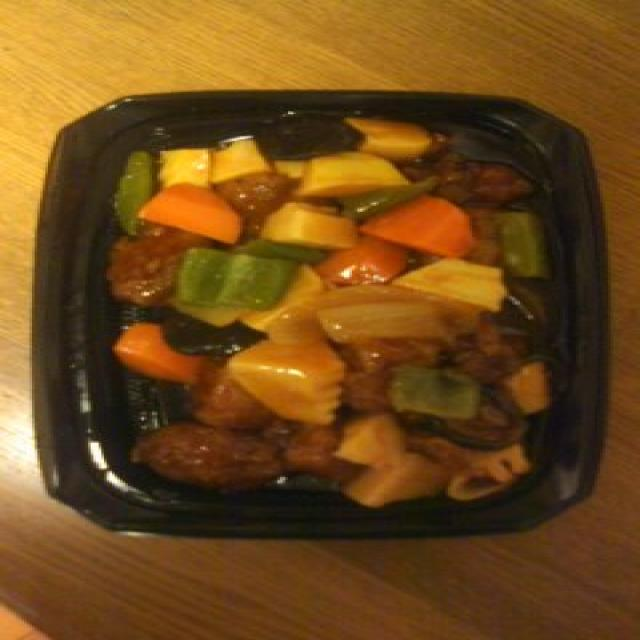猪肉菜式: (37, 77, 624, 566)
